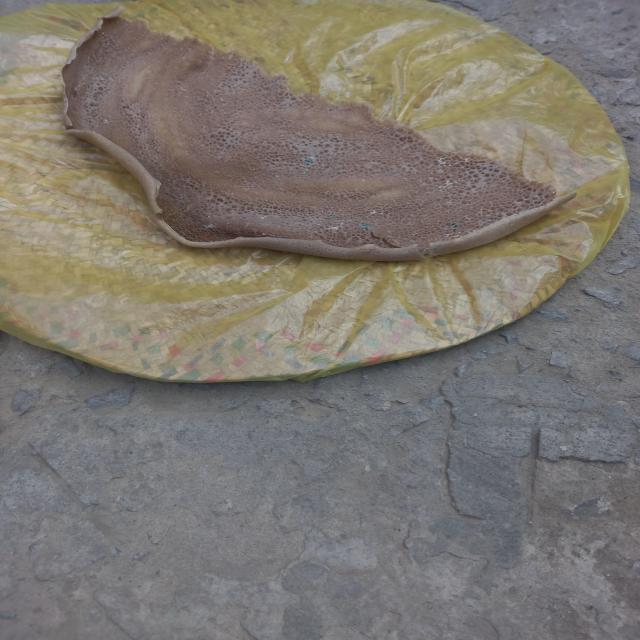injera_mold: (437, 178, 456, 190), (437, 154, 452, 167), (202, 222, 218, 230), (449, 220, 460, 229), (359, 222, 372, 229), (302, 157, 314, 164), (324, 225, 338, 231), (432, 244, 442, 251), (180, 193, 188, 200), (275, 174, 282, 181), (302, 168, 309, 174), (369, 210, 378, 214), (411, 231, 418, 236), (463, 158, 471, 162), (330, 212, 336, 217), (104, 119, 108, 124), (353, 203, 358, 207), (207, 215, 211, 218), (317, 223, 321, 226), (379, 212, 383, 215), (312, 220, 315, 223), (262, 233, 266, 235), (261, 217, 264, 219), (341, 222, 344, 224)
